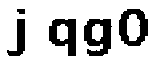0: (118, 5, 150, 49)
g: (82, 18, 114, 59)
j: (1, 6, 31, 60)
q: (45, 16, 80, 58)
